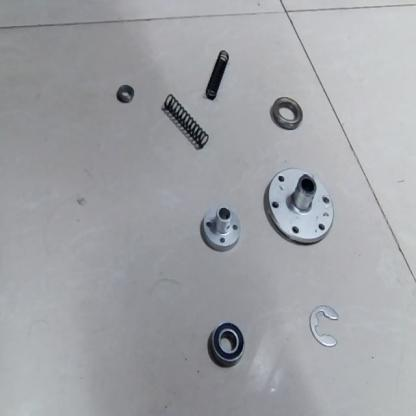FOD: (262, 163, 336, 250), (160, 92, 209, 150), (196, 202, 243, 256), (208, 318, 247, 370), (306, 304, 342, 350), (204, 46, 230, 100), (270, 97, 306, 132), (114, 82, 138, 106)
